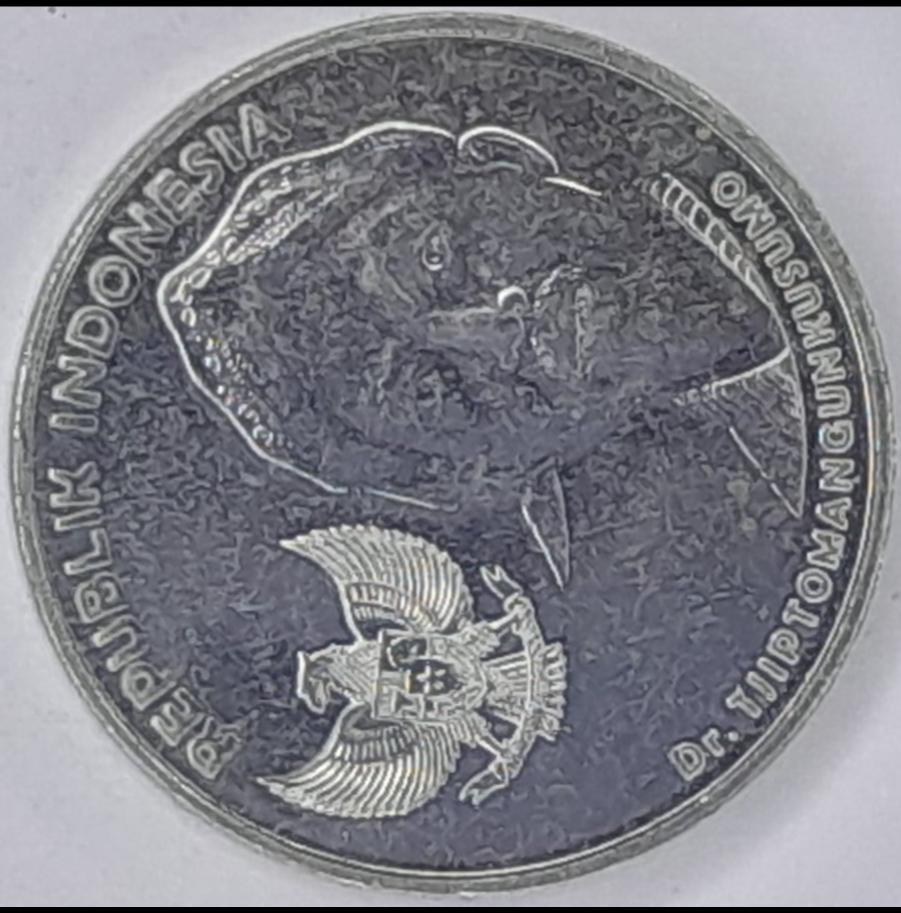coin_200_e2016: (0, 16, 901, 913)
